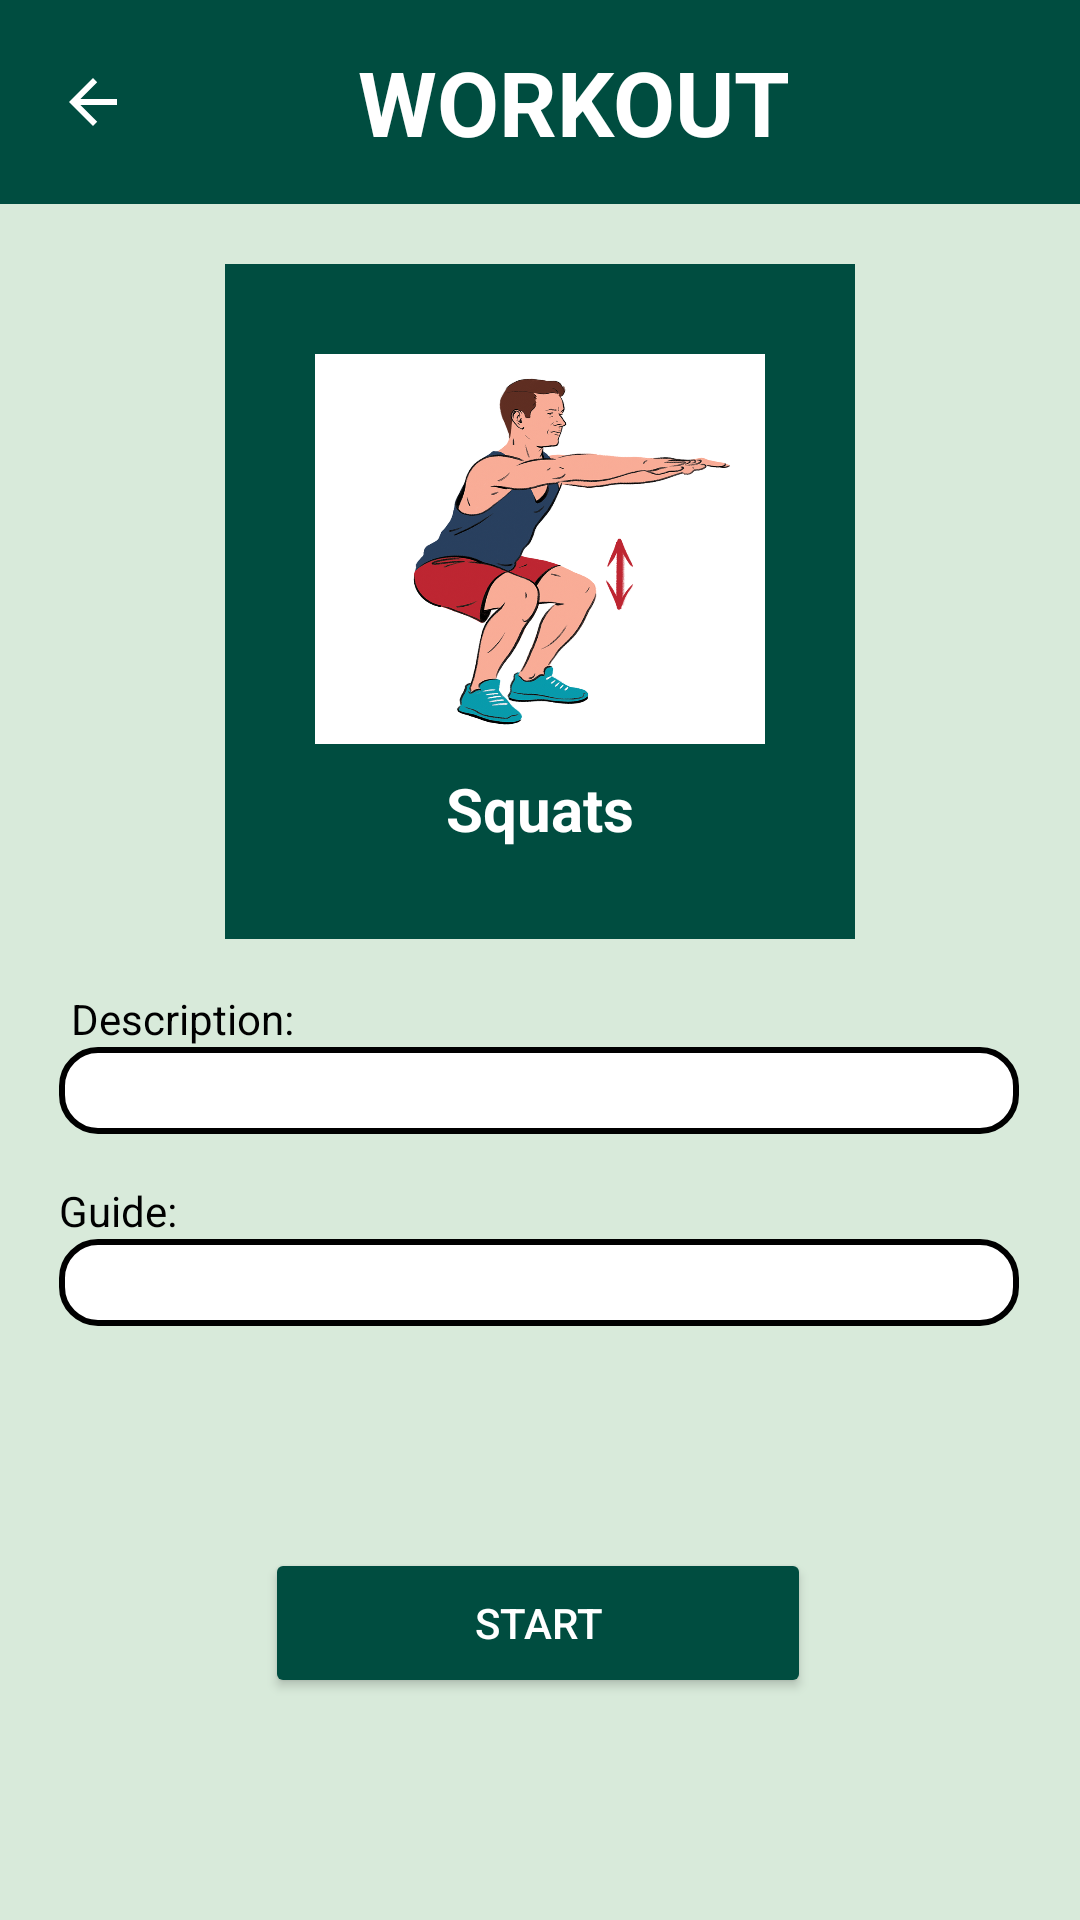

Named icons in this screenshot (1080*1920) and their centers, point (x, y):
Back: point (93, 102)
